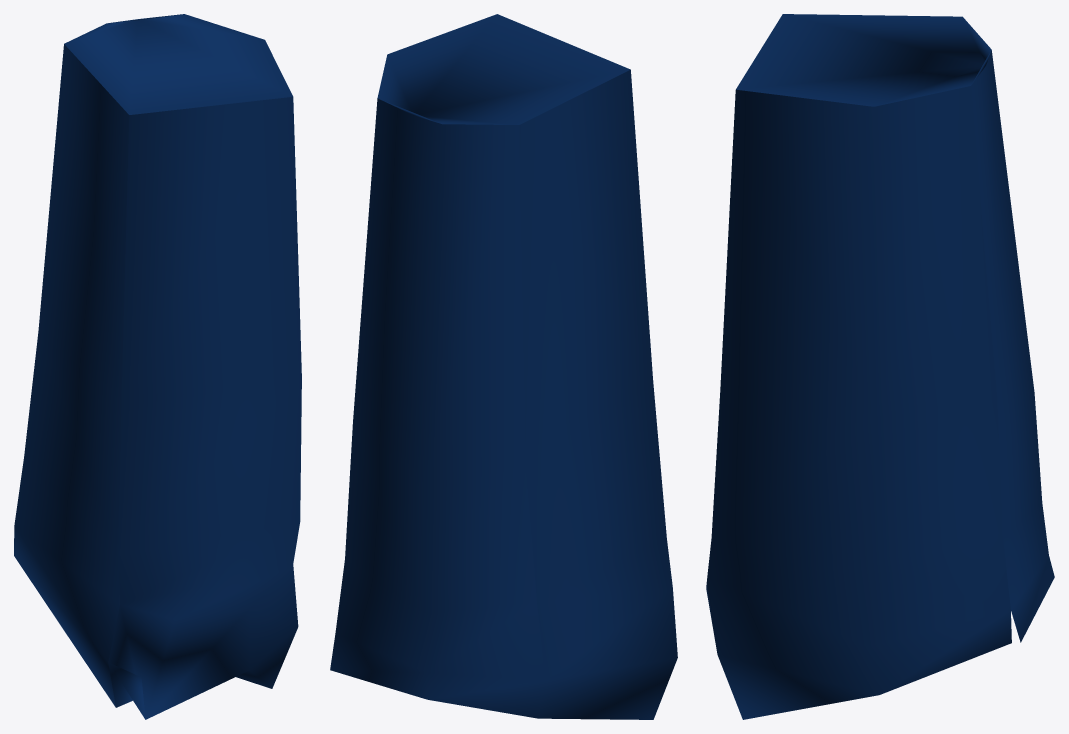
File: left_forearm.glb
The picture shows the model from 3 angles, left to right: view 1: azimuth 30°, elevation 25°; view 2: azimuth 150°, elevation 25°; view 3: azimuth 270°, elevation 25°; orthographic projection. The views are drawn at different scales.
Parts seen in each view (by area): view 1: sweater-navy_LEFT_FOREARM; view 2: sweater-navy_LEFT_FOREARM; view 3: sweater-navy_LEFT_FOREARM.
Part boxes in pixels (x1,y1,x2,y2): sweater-navy_LEFT_FOREARM: (14,14,301,719); sweater-navy_LEFT_FOREARM: (330,14,677,719); sweater-navy_LEFT_FOREARM: (706,14,1054,719).
Bounding box in the file's own units: 0.1163 × 0.2888 × 0.1398.
1 material, 1 textured.
